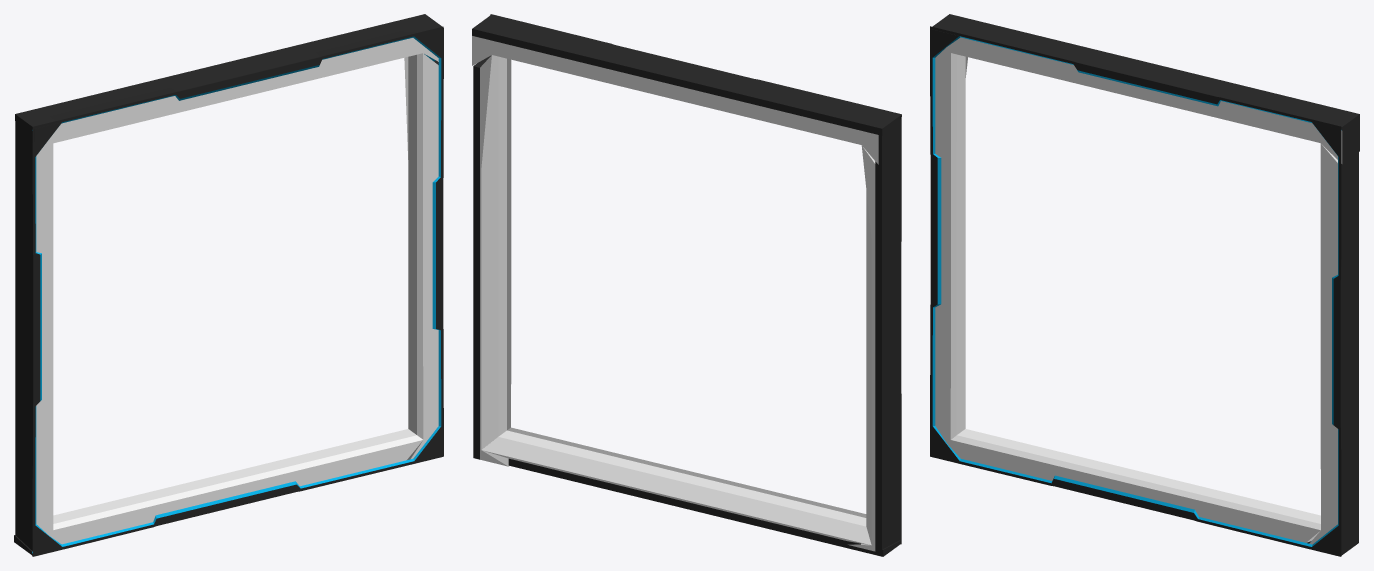
Rendered from level_border.fbx.
3 renders of one model, left to right at view 1: azimuth 30°, elevation 25°; view 2: azimuth 150°, elevation 25°; view 3: azimuth 330°, elevation 25°, orthographic.
Visible parts, largest first — view 1: pCube18; view 2: pCube18; view 3: pCube18.
Boxes of the visible parts, x1,y1,x2,y2 form: pCube18: (14, 14, 443, 556); pCube18: (472, 14, 901, 556); pCube18: (930, 14, 1359, 556).
Size of the model in its own units: 1668 by 1668 by 140.
